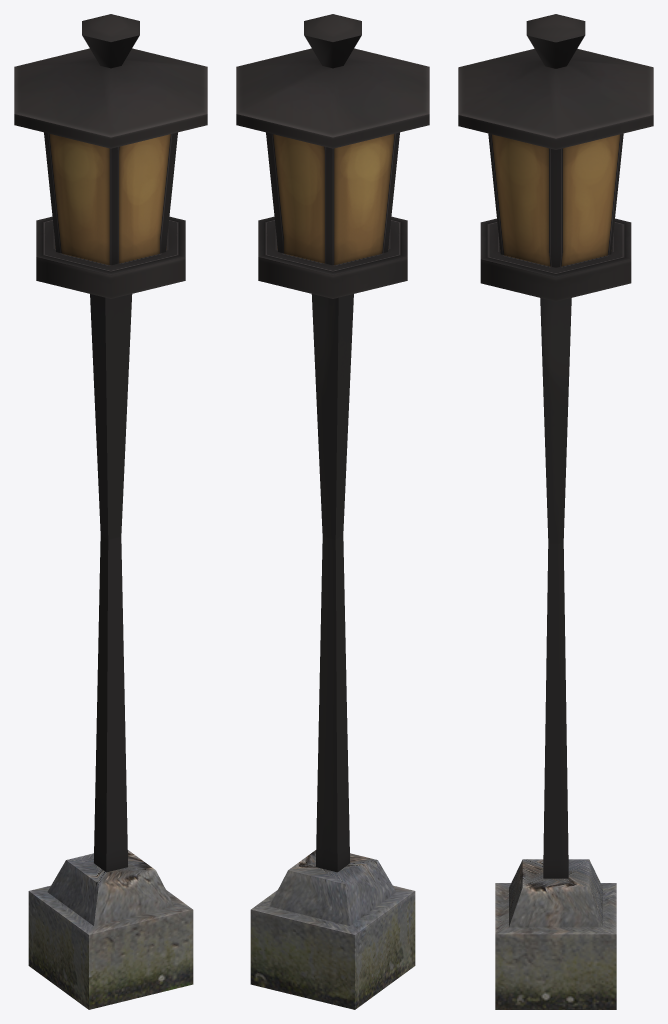
File: B12_Lights_00.FBX
3 views of the same model, side by side, from view 1: azimuth 30°, elevation 25°; view 2: azimuth 150°, elevation 25°; view 3: azimuth 270°, elevation 25° (orthographic).
Parts seen in each view (by area): view 1: B12_Lights; view 2: B12_Lights; view 3: B12_Lights.
Boxes of the visible parts, x1=… form: B12_Lights: x1=14, y1=14, x2=207, y2=1009; B12_Lights: x1=236, y1=14, x2=429, y2=1009; B12_Lights: x1=458, y1=14, x2=653, y2=1009.
Bounding box in the file's own units: 35.47 × 168 × 30.72.
Materials: 1 (1 with a texture image).
